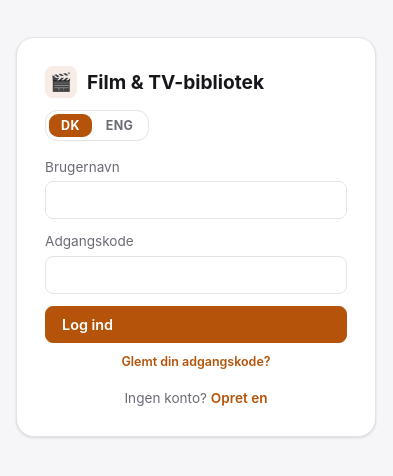
Scenario: Login — glemt adgangskode (feature #205) › viser backendens specifikke fejlbesked, ikke en generisk
The image size is (393, 476).
Click the button "Glemt din adgangskode?" at (196, 361), box [122, 354, 271, 369]
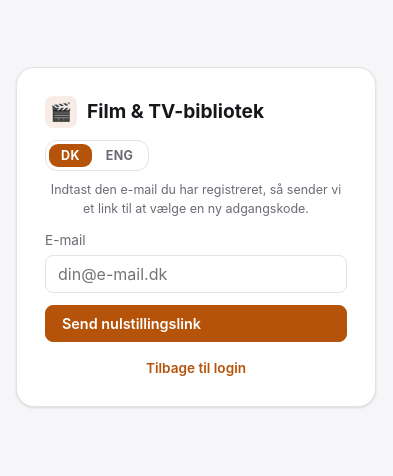
Type "mig@example.com" into the field labelled "E-mail" at (196, 274), box [45, 255, 347, 293]
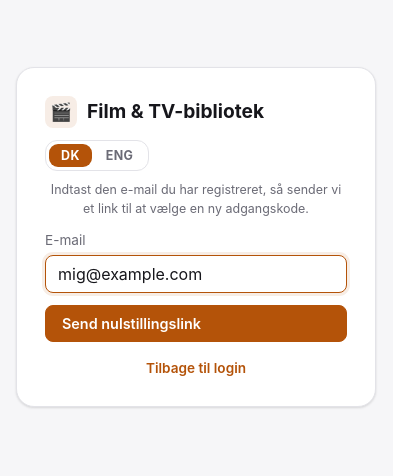
Click the button "Send nulstillingslink" at (196, 323), box [45, 305, 347, 342]
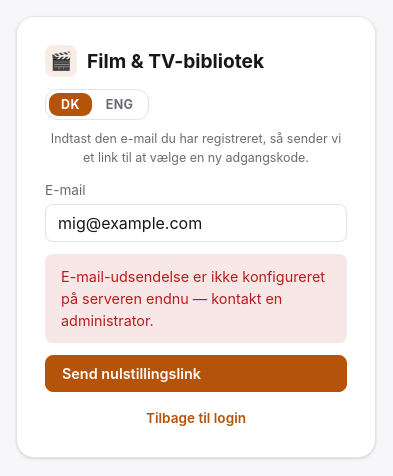
Expected: the text "E-mail-udsendelse er ikke konfigureret på serveren endnu — kontakt en administrator." is shown, [61, 268, 325, 328]
